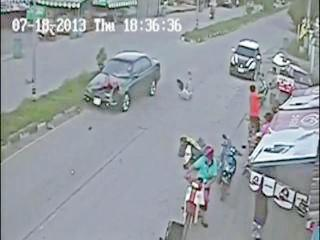Car: (82, 51, 164, 114), (232, 39, 260, 80)
Major Accident: (81, 49, 207, 169)
Motor: (183, 148, 215, 239), (218, 139, 240, 201), (172, 131, 206, 169)
